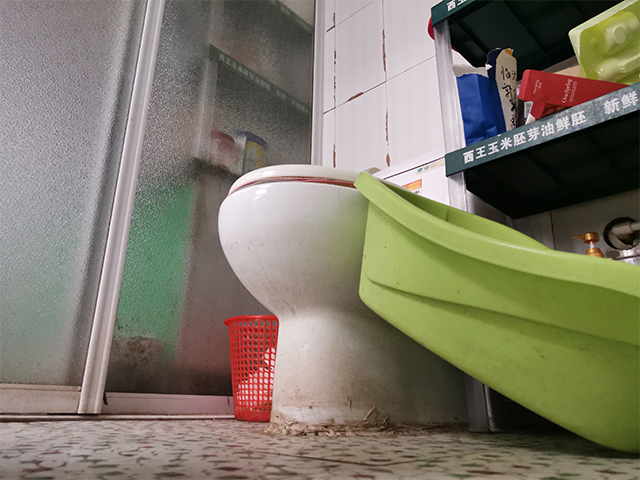closestool: (210, 151, 465, 438)
trashcan: (222, 314, 279, 422)
